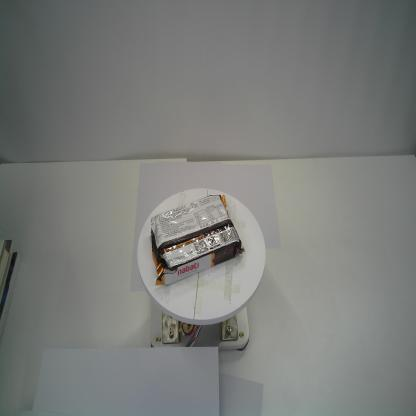Dessert: (151, 194, 245, 288)
